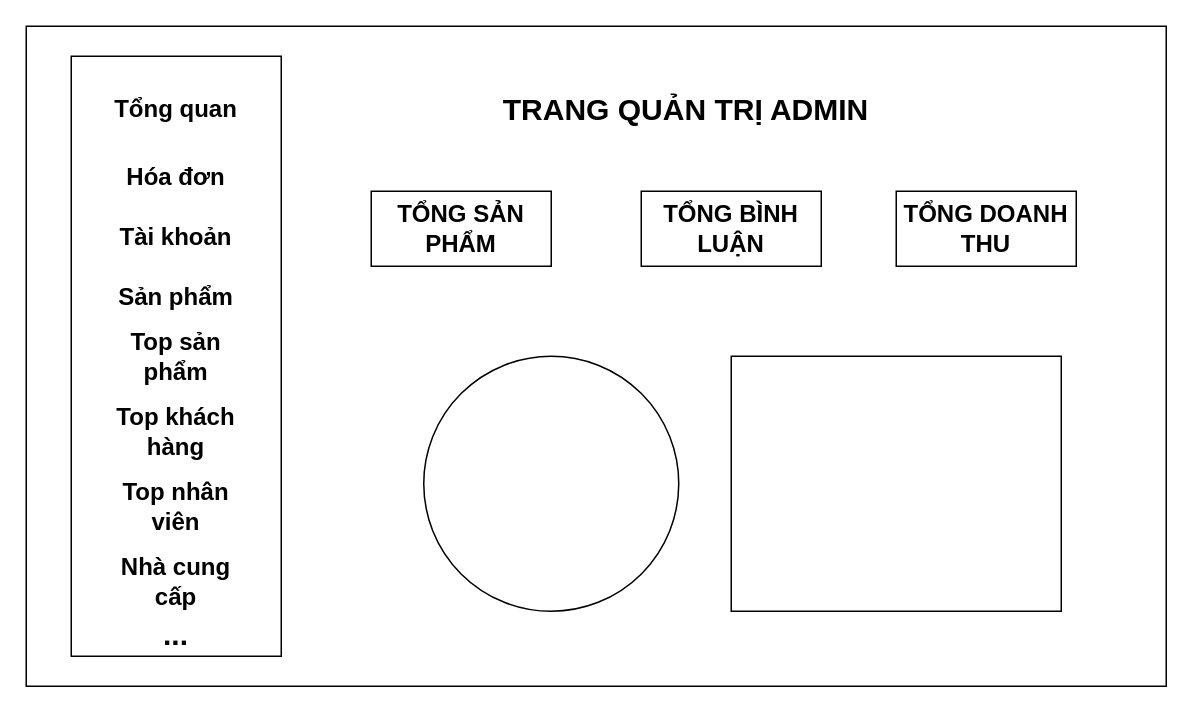
Some shapes in this 1193 by 713 pixel diagram are drawn without their labels. The box of each missing label's shape, as (x1, y1, x2, y2) in pixels:
BIỂU ĐỒ CỘT: (730, 355, 1061, 611)
BIỂU ĐỒ TRÒN: (422, 355, 679, 611)
